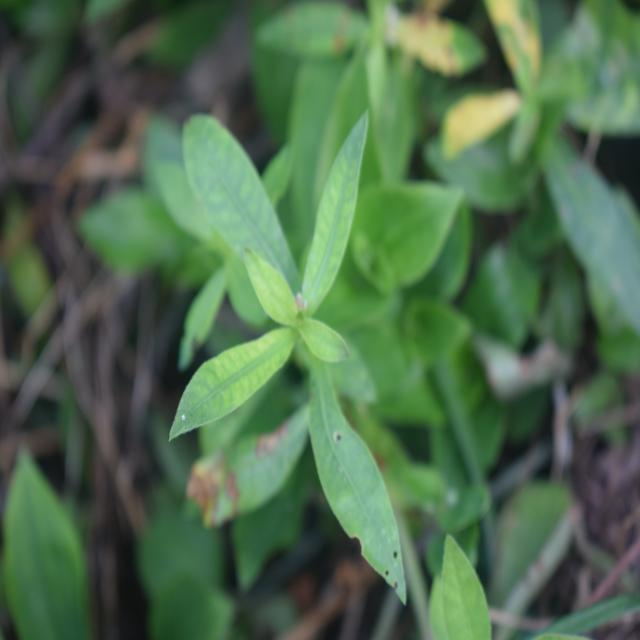Alligatorweed: (146, 79, 411, 576)
